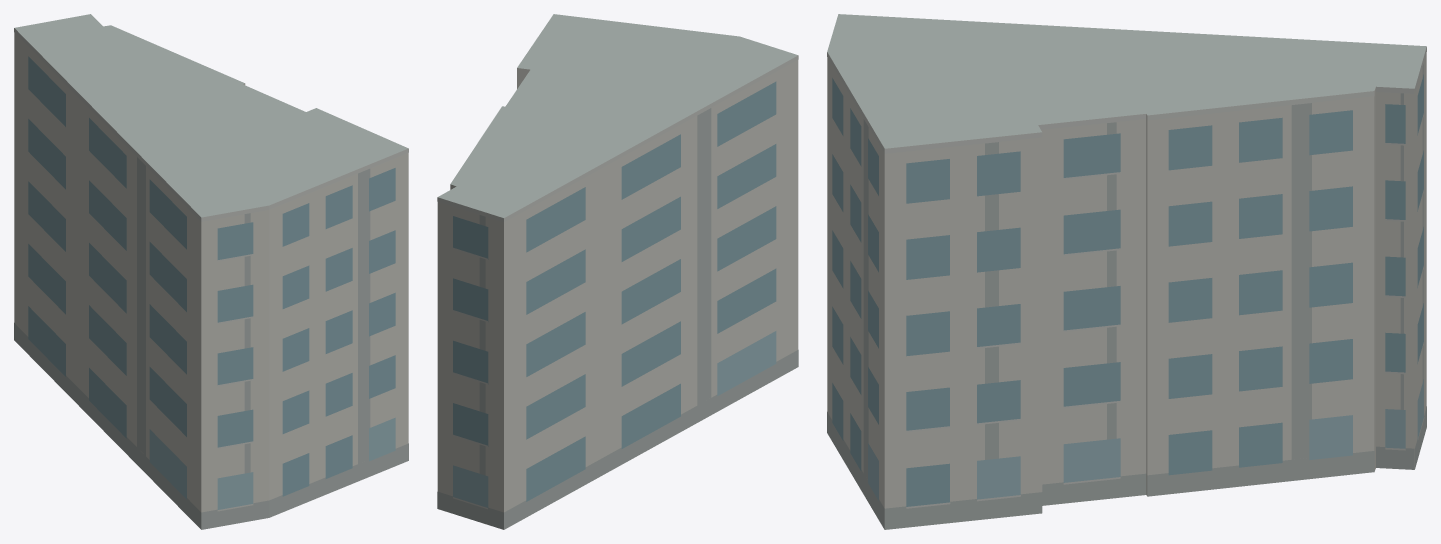
Rendered from survey-upis-32760608.glb.
The picture shows the model from 3 angles, left to right: view 1: azimuth 30°, elevation 25°; view 2: azimuth 150°, elevation 25°; view 3: azimuth 270°, elevation 25°; orthographic projection. The views are drawn at different scales.
Visible parts, largest first — view 1: survey-upis-32760608.tmp; view 2: survey-upis-32760608.tmp; view 3: survey-upis-32760608.tmp.
Boxes of the visible parts, x1,y1,x2,y2 form: survey-upis-32760608.tmp: [14, 14, 408, 529]; survey-upis-32760608.tmp: [437, 14, 798, 529]; survey-upis-32760608.tmp: [827, 14, 1426, 529].
Size of the model in its own units: 13.36 by 17.6 by 25.11.
